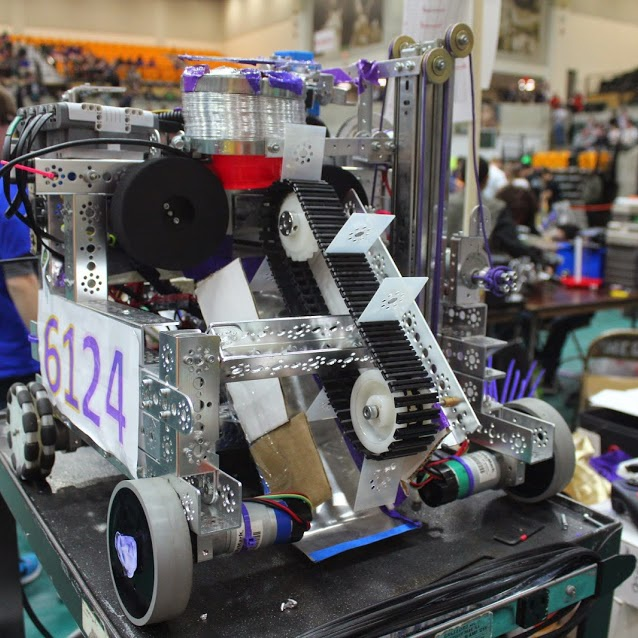robot: (0, 19, 580, 630)
